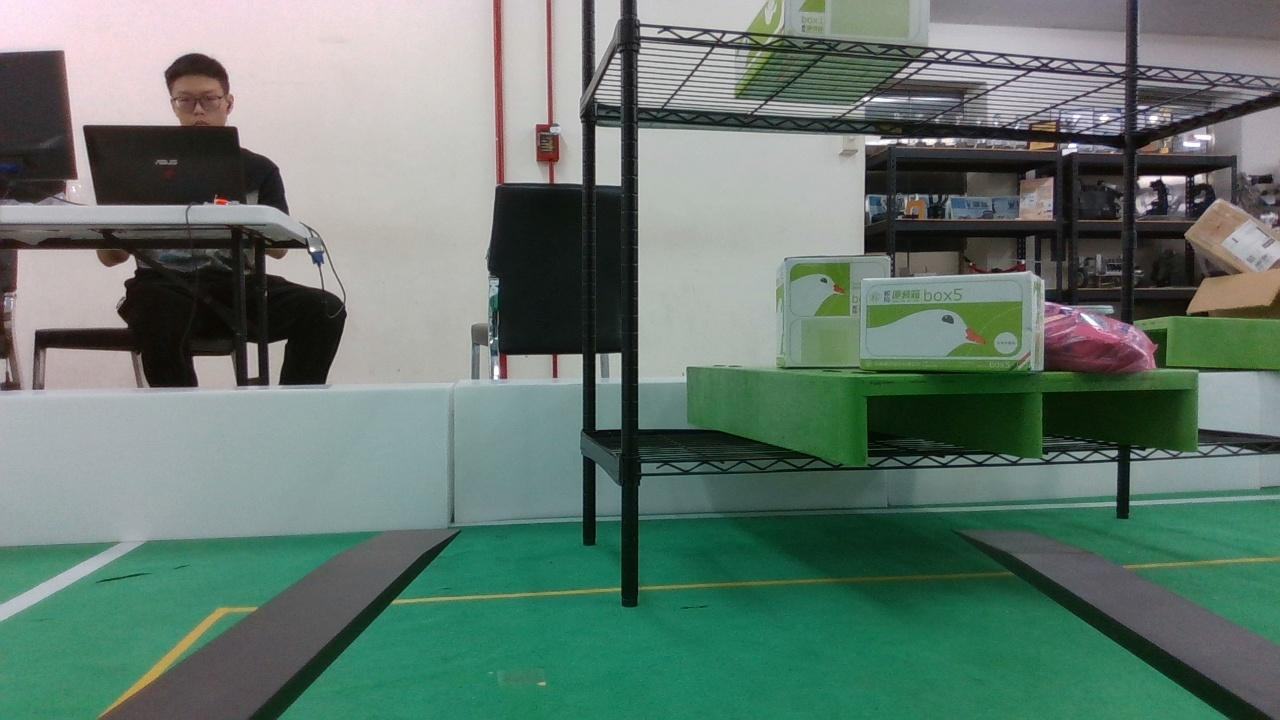Pallet: (844, 369, 1199, 465)
